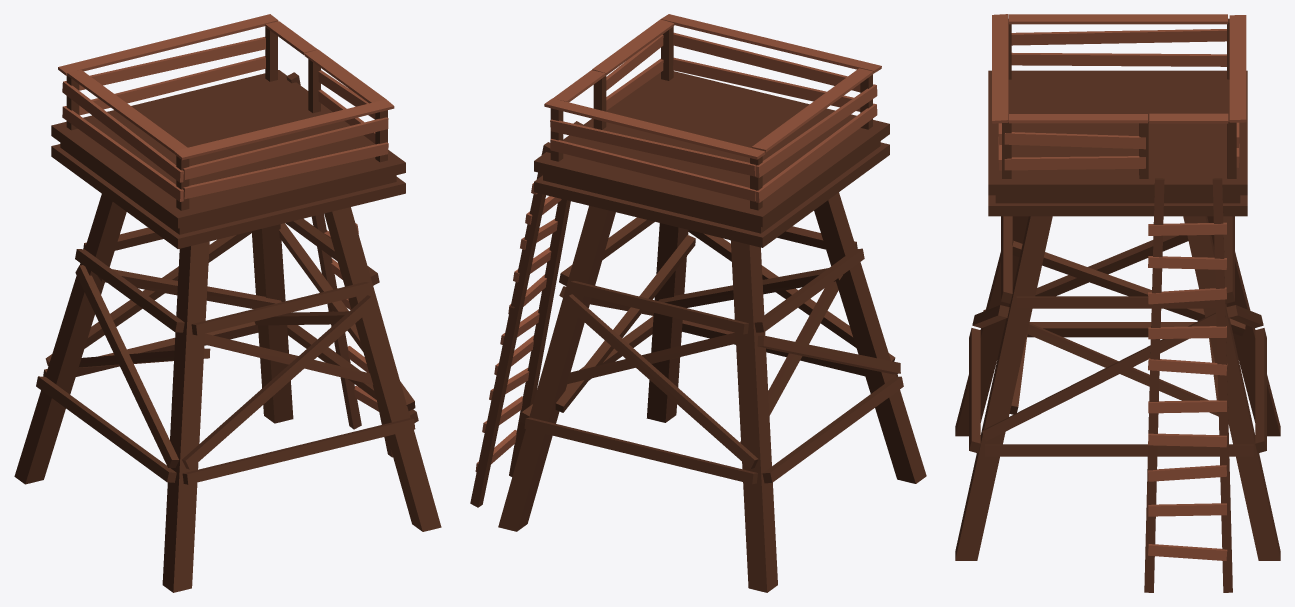
The model's file is Watchtower.fbx.
The picture shows the model from 3 angles, left to right: view 1: azimuth 30°, elevation 25°; view 2: azimuth 150°, elevation 25°; view 3: azimuth 270°, elevation 25°; orthographic projection. The views are drawn at different scales.
Parts seen in each view (by area): view 1: Watertank; view 2: Watertank; view 3: Watertank.
Part boxes in pixels (box(x1,y1,x2,y2)): Watertank: box(14, 14, 441, 592); Watertank: box(470, 14, 926, 592); Watertank: box(955, 14, 1280, 592).
Bounding box in the file's own units: 596 × 758 × 514.
